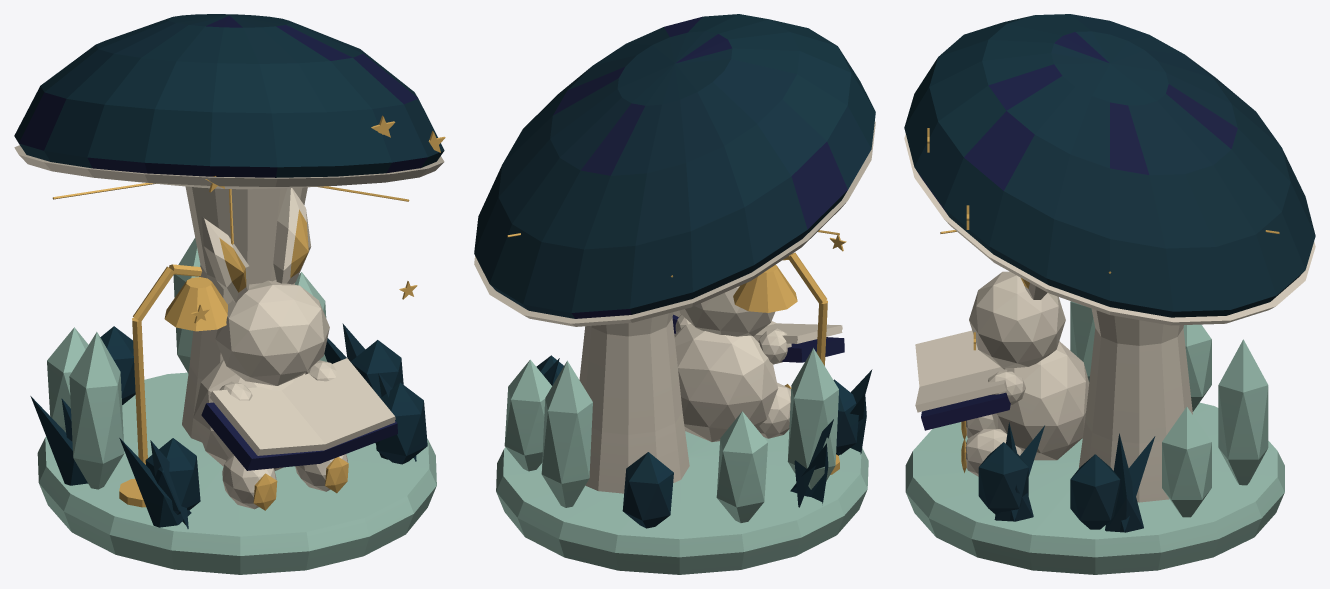
The model's file is reading-bunny.glb.
The picture shows the model from 3 angles, left to right: view 1: azimuth 30°, elevation 25°; view 2: azimuth 150°, elevation 25°; view 3: azimuth 270°, elevation 25°; orthographic projection. The views are drawn at different scales.
Parts seen in each view (by area): view 1: root_mesh, lid_mesh, ears1_mesh, pulse_mesh, ears0_mesh; view 2: root_mesh, pulse_mesh, lid_mesh; view 3: root_mesh, lid_mesh.
Boxes of the visible parts, left/top/right/bottom form: root_mesh: left=14, top=14, right=445, bottom=574; lid_mesh: left=210, top=358, right=395, bottom=455; ears1_mesh: left=273, top=188, right=311, bottom=284; pulse_mesh: left=164, top=277, right=227, bottom=331; ears0_mesh: left=201, top=217, right=249, bottom=302; root_mesh: left=474, top=14, right=875, bottom=574; pulse_mesh: left=733, top=265, right=797, bottom=312; lid_mesh: left=673, top=310, right=842, bottom=343; root_mesh: left=904, top=14, right=1315, bottom=574; lid_mesh: left=915, top=330, right=1007, bottom=412.
Bounding box in the file's own units: 2.8 × 3.5 × 2.9.
